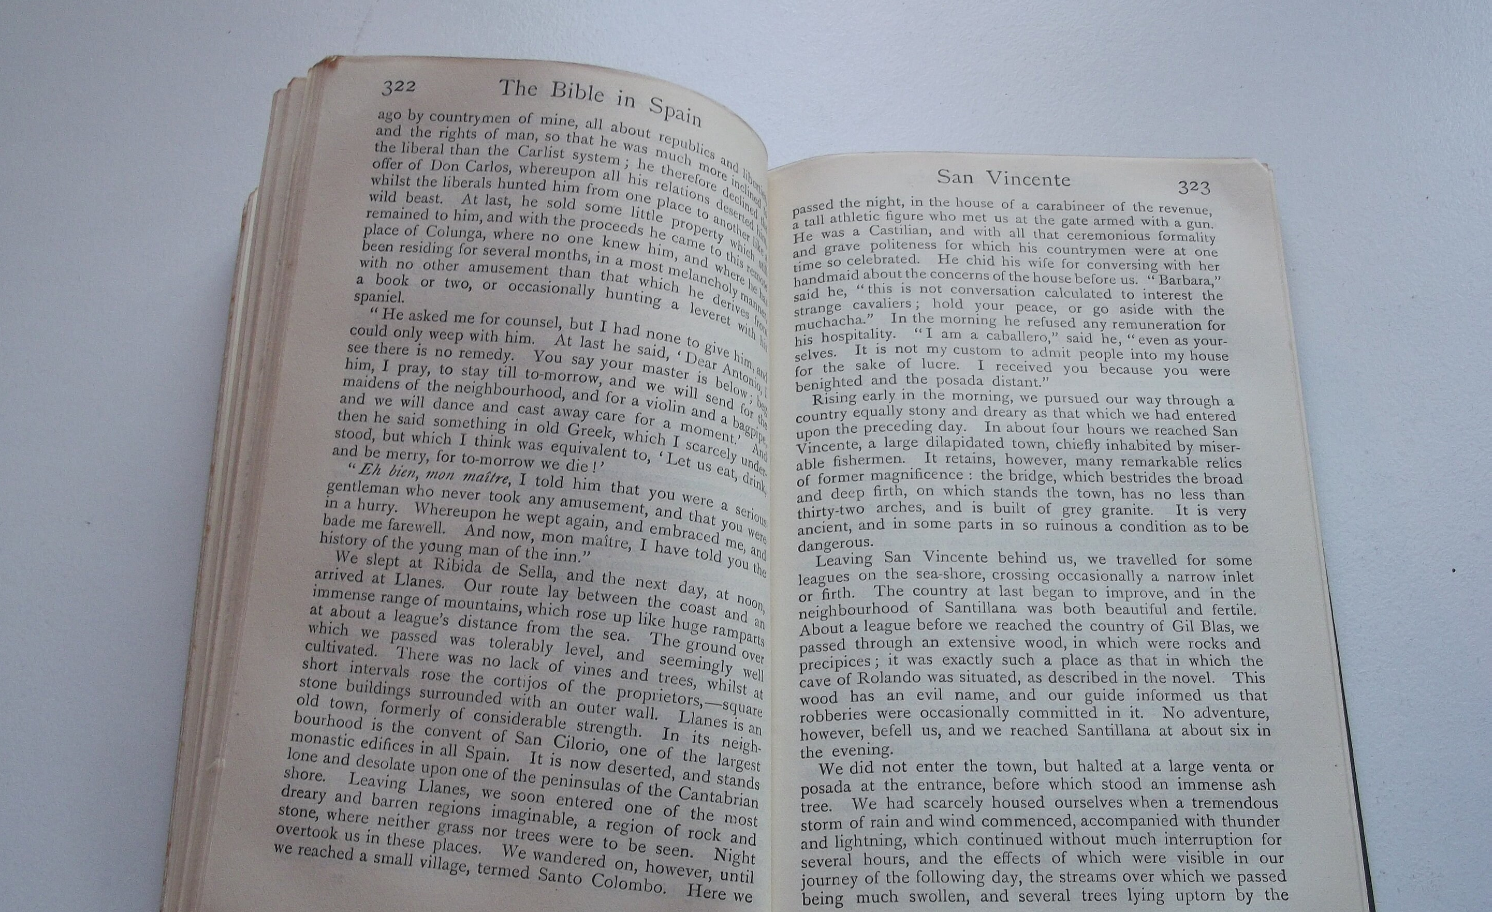book: (201, 51, 1369, 912)
